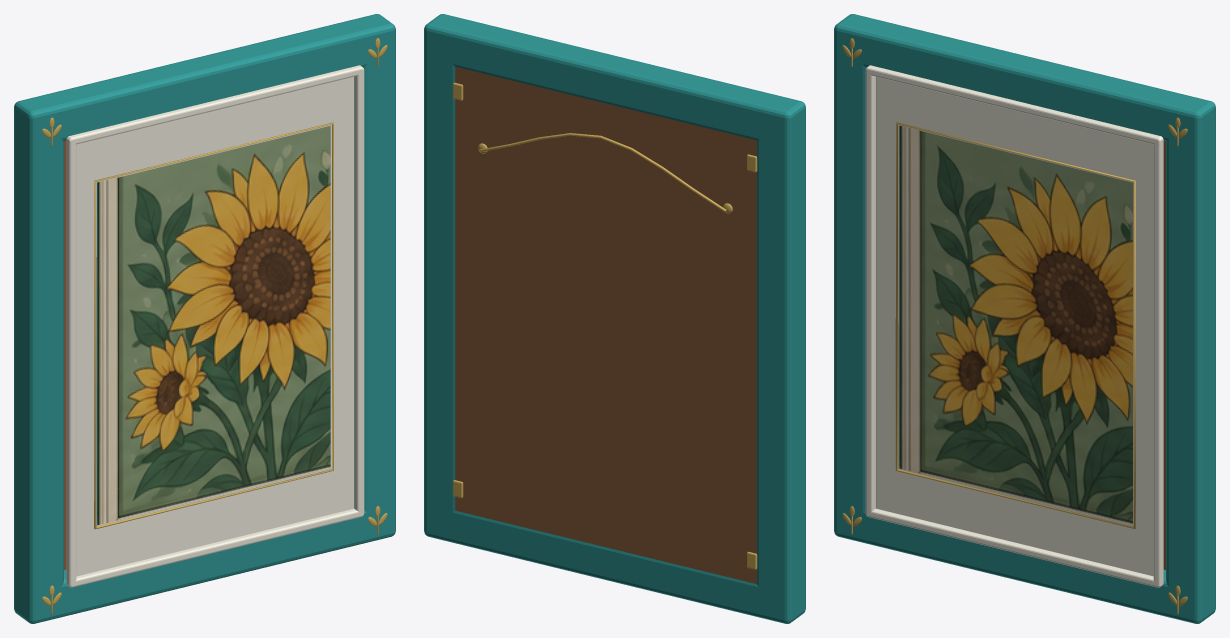
File: framed_botanical_sunflower.glb
The picture shows the model from 3 angles, left to right: view 1: azimuth 30°, elevation 25°; view 2: azimuth 150°, elevation 25°; view 3: azimuth 330°, elevation 25°; orthographic projection.
Visible parts, largest first — view 1: Flat_botanical_painting, Linen_mat, Stepped_frame_vertical, Stepped_frame_vertical.001, Stepped_frame_horizontal.001, Stepped_frame_horizontal, Inner_vertical_bead, Inner_vertical_bead.001, Inner_horizontal_bead, Inner_horizontal_bead.001, Fine_edge, Sealed_backboard; view 2: Sealed_backboard, Stepped_frame_vertical, Stepped_frame_vertical.001, Stepped_frame_horizontal.001, Stepped_frame_horizontal, Rear_hanging_wire; view 3: Flat_botanical_painting, Linen_mat, Stepped_frame_vertical.001, Stepped_frame_vertical, Stepped_frame_horizontal.001, Stepped_frame_horizontal, Inner_vertical_bead.001, Inner_vertical_bead, Fine_edge, Inner_horizontal_bead, Inner_horizontal_bead.001, Sealed_backboard.
Part boxes in pixels (x1,y1,x2,y2): Flat_botanical_painting: (97, 125, 330, 525); Linen_mat: (76, 76, 353, 576); Stepped_frame_vertical: (14, 95, 63, 623); Stepped_frame_vertical.001: (351, 14, 395, 542); Stepped_frame_horizontal.001: (37, 20, 376, 140); Stepped_frame_horizontal: (50, 510, 377, 618); Inner_vertical_bead: (66, 137, 76, 586); Inner_vertical_bead.001: (354, 68, 364, 515); Inner_horizontal_bead: (70, 508, 363, 587); Inner_horizontal_bead.001: (67, 65, 363, 144); Fine_edge: (94, 122, 333, 529); Sealed_backboard: (64, 140, 66, 569); Sealed_backboard: (455, 67, 756, 583); Stepped_frame_vertical: (757, 95, 805, 623); Stepped_frame_vertical.001: (424, 14, 468, 542); Stepped_frame_horizontal.001: (442, 20, 775, 140); Stepped_frame_horizontal: (442, 510, 769, 619); Rear_hanging_wire: (478, 133, 726, 211); Flat_botanical_painting: (899, 125, 1132, 525); Linen_mat: (876, 76, 1153, 576); Stepped_frame_vertical.001: (1166, 95, 1215, 623); Stepped_frame_vertical: (834, 14, 878, 542); Stepped_frame_horizontal.001: (852, 20, 1185, 140); Stepped_frame_horizontal: (852, 510, 1179, 619); Inner_vertical_bead.001: (1153, 137, 1163, 586); Inner_vertical_bead: (865, 68, 875, 515); Fine_edge: (895, 122, 1135, 528); Inner_horizontal_bead: (866, 508, 1159, 587); Inner_horizontal_bead.001: (866, 65, 1162, 144); Sealed_backboard: (1163, 140, 1165, 569).
Size of the model in its own units: 0.6 by 0.8 by 0.077.
6 materials, 1 textured.
